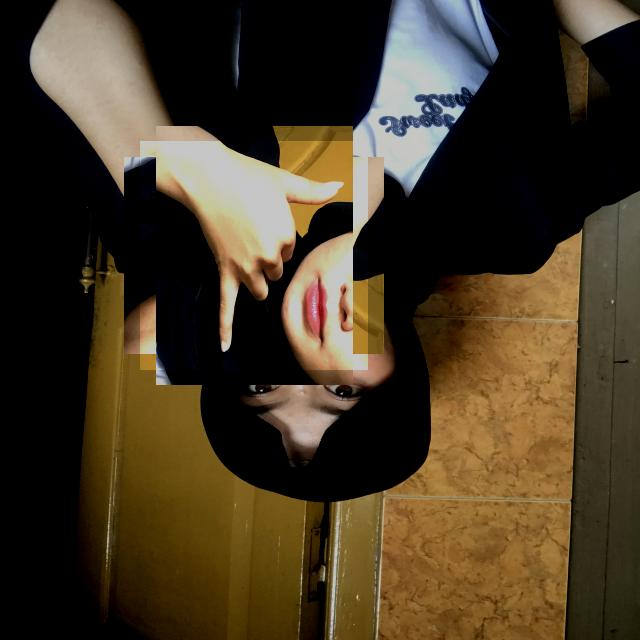telpon: (140, 141, 368, 370)
